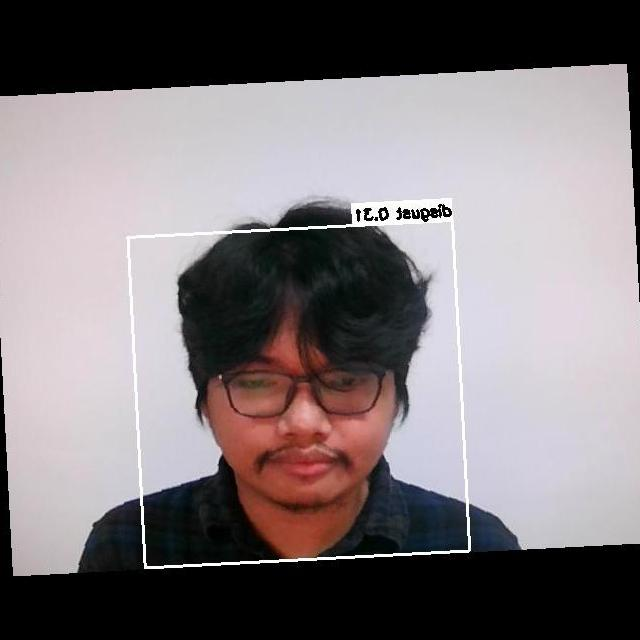Natural: (205, 349, 422, 488)
